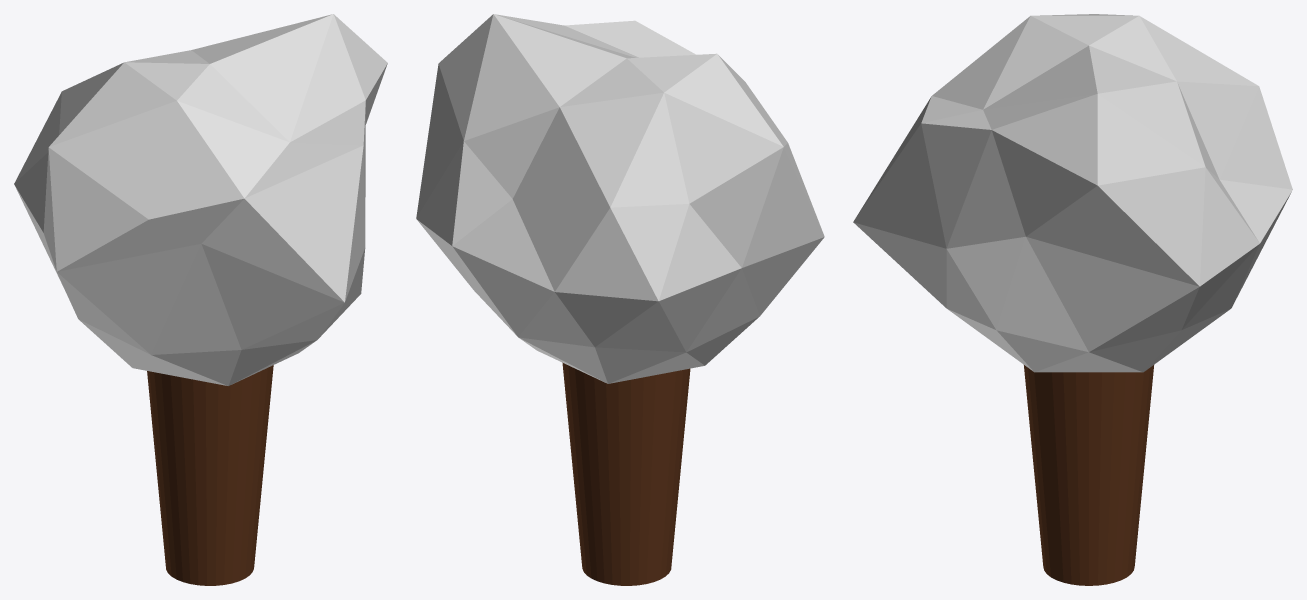
The model's file is tree.glb.
The picture shows the model from 3 angles, left to right: view 1: azimuth 30°, elevation 25°; view 2: azimuth 150°, elevation 25°; view 3: azimuth 270°, elevation 25°; orthographic projection. The views are drawn at different scales.
Parts seen in each view (by area): view 1: Cylinder; view 2: Cylinder; view 3: Cylinder.
Part boxes in pixels (x1=…): Cylinder: x1=14, y1=14, x2=387, y2=585; Cylinder: x1=416, y1=14, x2=824, y2=585; Cylinder: x1=853, y1=14, x2=1292, y2=585.
Size of the model in its own units: 2.42 by 3.37 by 2.5.
